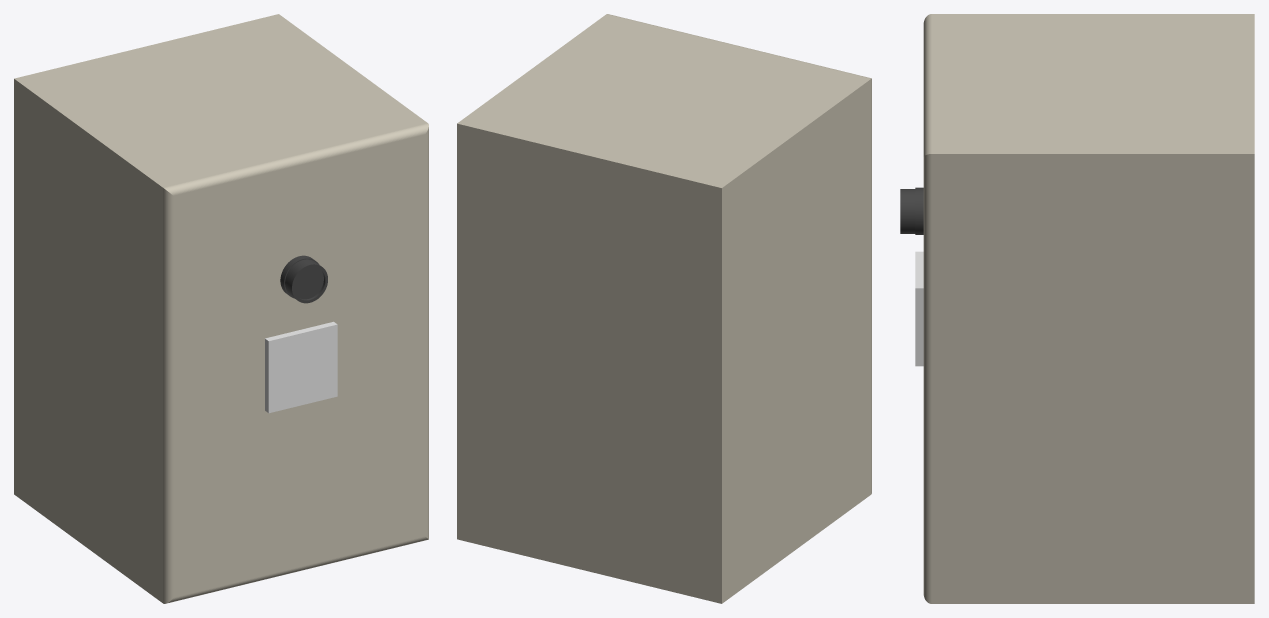
The picture shows the model from 3 angles, left to right: view 1: azimuth 30°, elevation 25°; view 2: azimuth 150°, elevation 25°; view 3: azimuth 270°, elevation 25°; orthographic projection. The views are drawn at different scales.
Parts seen in each view (by area): view 1: Part 1 (×2), Part 3; view 2: Part 1; view 3: Part 1 (×2), Part 3.
Boxes of the visible parts, <box> form: Part 1 (×2): <box>14,14,428,603</box>; Part 3: <box>280,255,327,303</box>; Part 1: <box>457,14,871,603</box>; Part 1 (×2): <box>915,14,1254,603</box>; Part 3: <box>900,187,923,234</box>.
Size of the model in its own units: 0.2 by 0.214 by 0.3.
